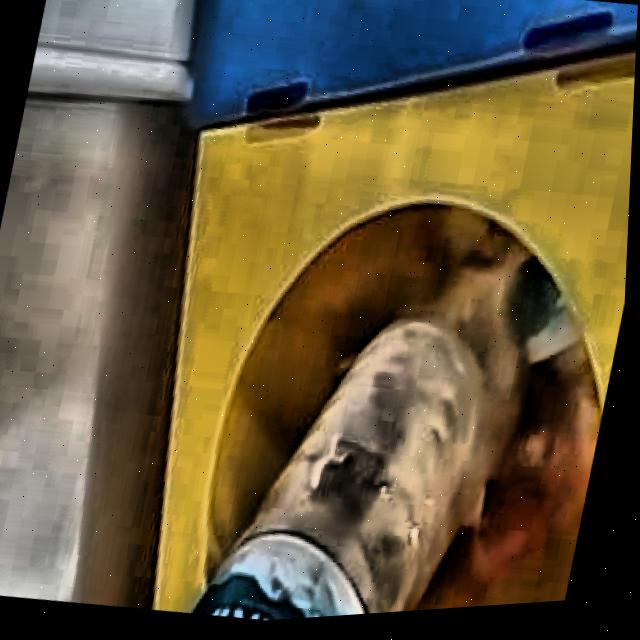plastic: (199, 326, 503, 625)
